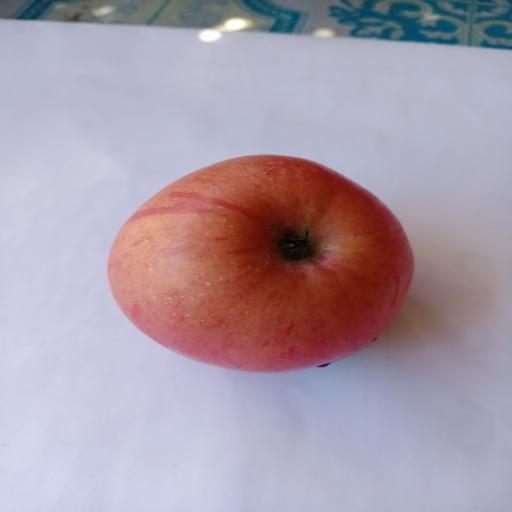apple-ripe: (92, 144, 428, 386)
